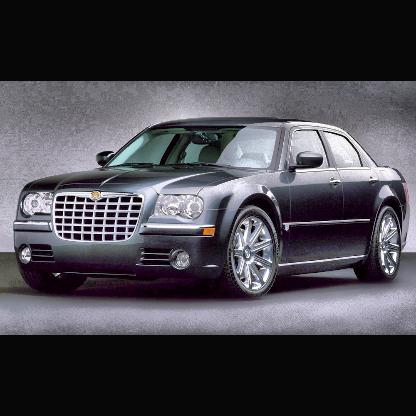Chrysler 300 SRT-8 2010: (11, 115, 412, 302)
